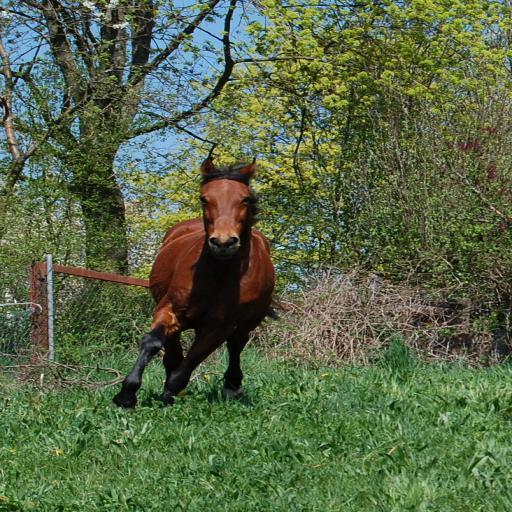horse: (112, 152, 284, 410)
